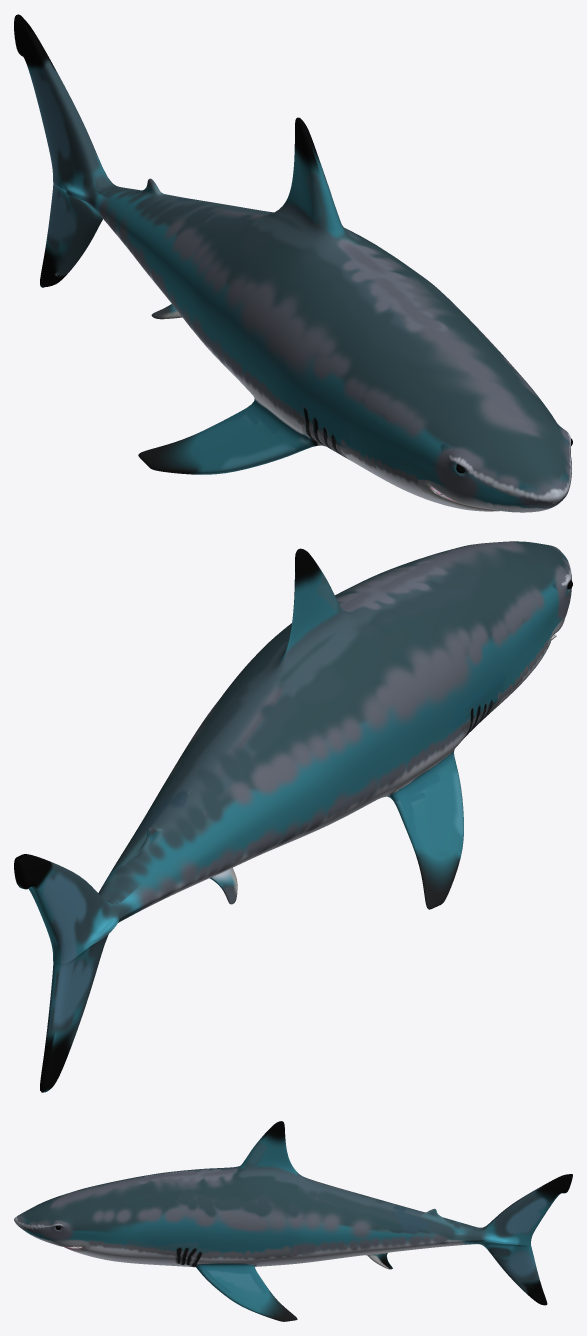
File: Hiu.fbx
The picture shows the model from 3 angles, top to bottom: view 1: azimuth 30°, elevation 25°; view 2: azimuth 150°, elevation 25°; view 3: azimuth 270°, elevation 25°; orthographic projection. The views are drawn at different scales.
Parts seen in each view (by area): view 1: Hiu_LOD0; view 2: Hiu_LOD0; view 3: Hiu_LOD0.
Boxes of the visible parts, x1,y1,x2,y2 form: Hiu_LOD0: (14, 14, 572, 512); Hiu_LOD0: (14, 541, 572, 1092); Hiu_LOD0: (14, 1121, 572, 1321).
Size of what is drawn, in the model's own units: 140 by 447 by 162.
